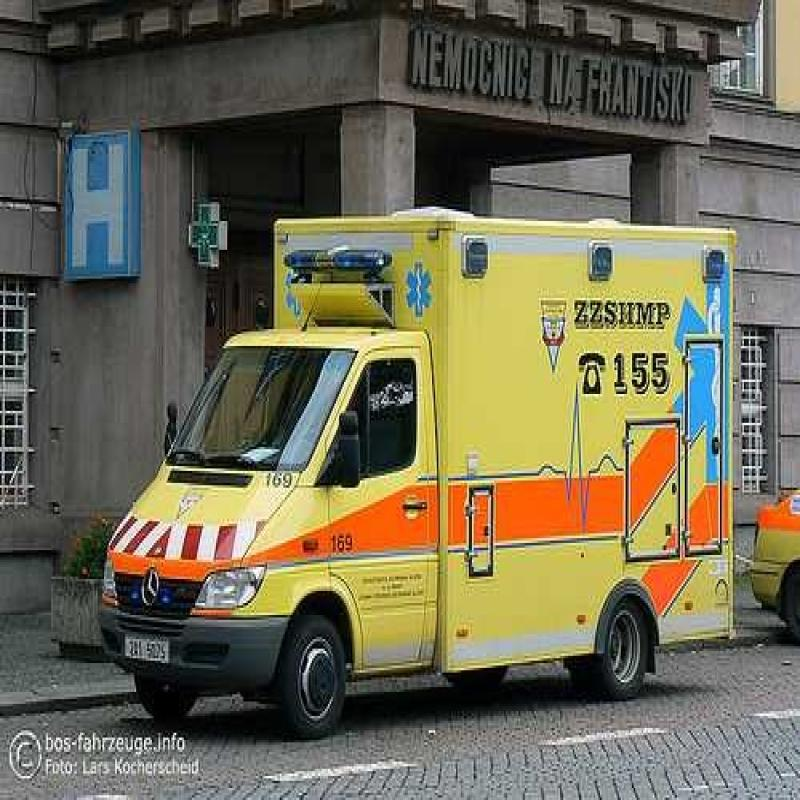AmbulanceSiren: (277, 211, 408, 307)
